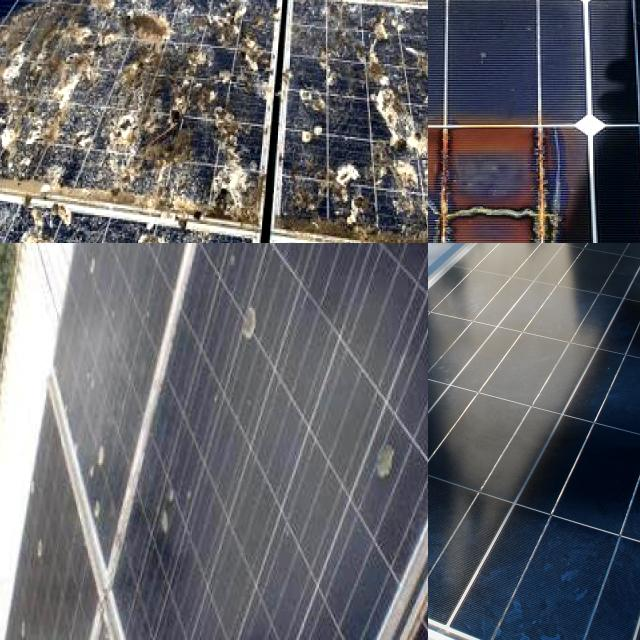bird: (133, 92, 236, 154), (0, 59, 53, 155), (102, 1, 212, 40), (17, 188, 75, 243), (129, 204, 184, 243), (343, 179, 384, 224)
crack: (428, 243, 640, 640)
dust: (207, 243, 275, 392), (63, 389, 119, 509), (335, 420, 428, 481), (74, 243, 136, 331), (254, 243, 342, 289), (155, 475, 202, 551), (372, 243, 428, 306), (114, 243, 210, 271)
shadow: (428, 109, 582, 243)
